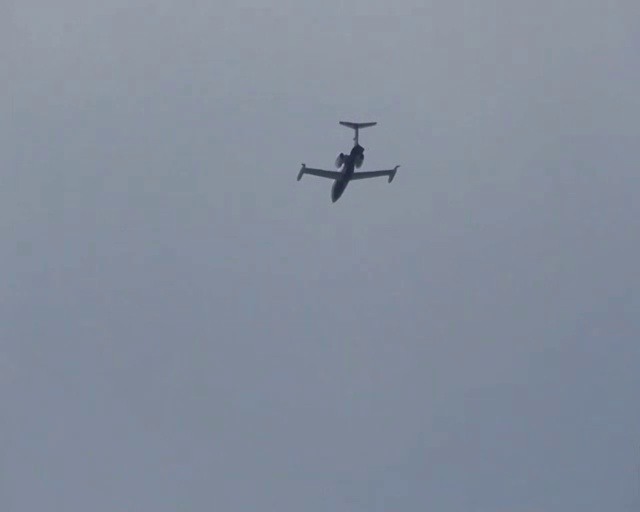AIRPLANE: (297, 118, 401, 203)
